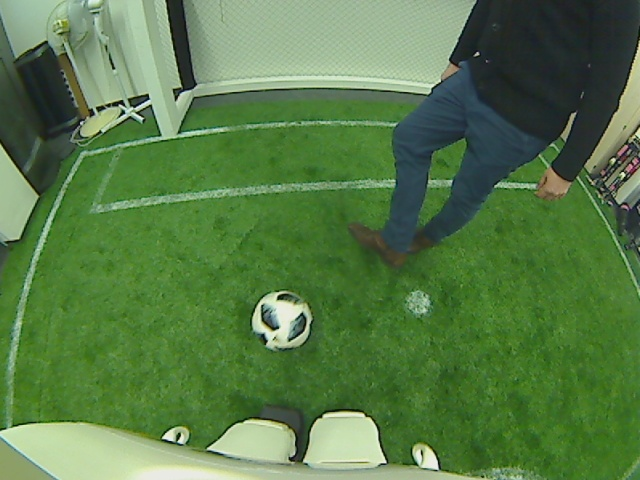ball: (249, 291, 313, 352)
